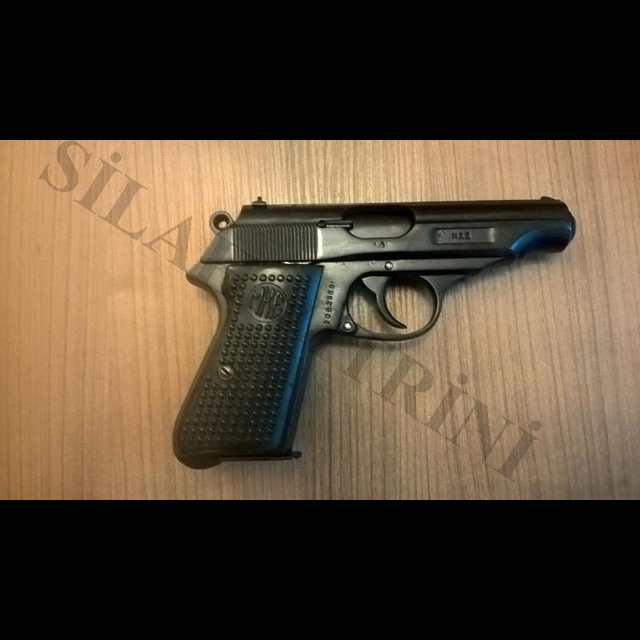SILAH: (162, 185, 578, 471)
